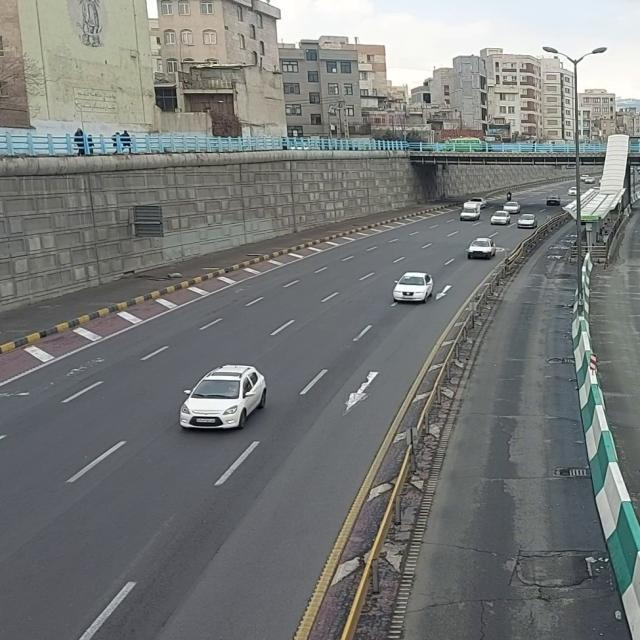Car: (175, 362, 275, 433), (388, 269, 438, 307)
